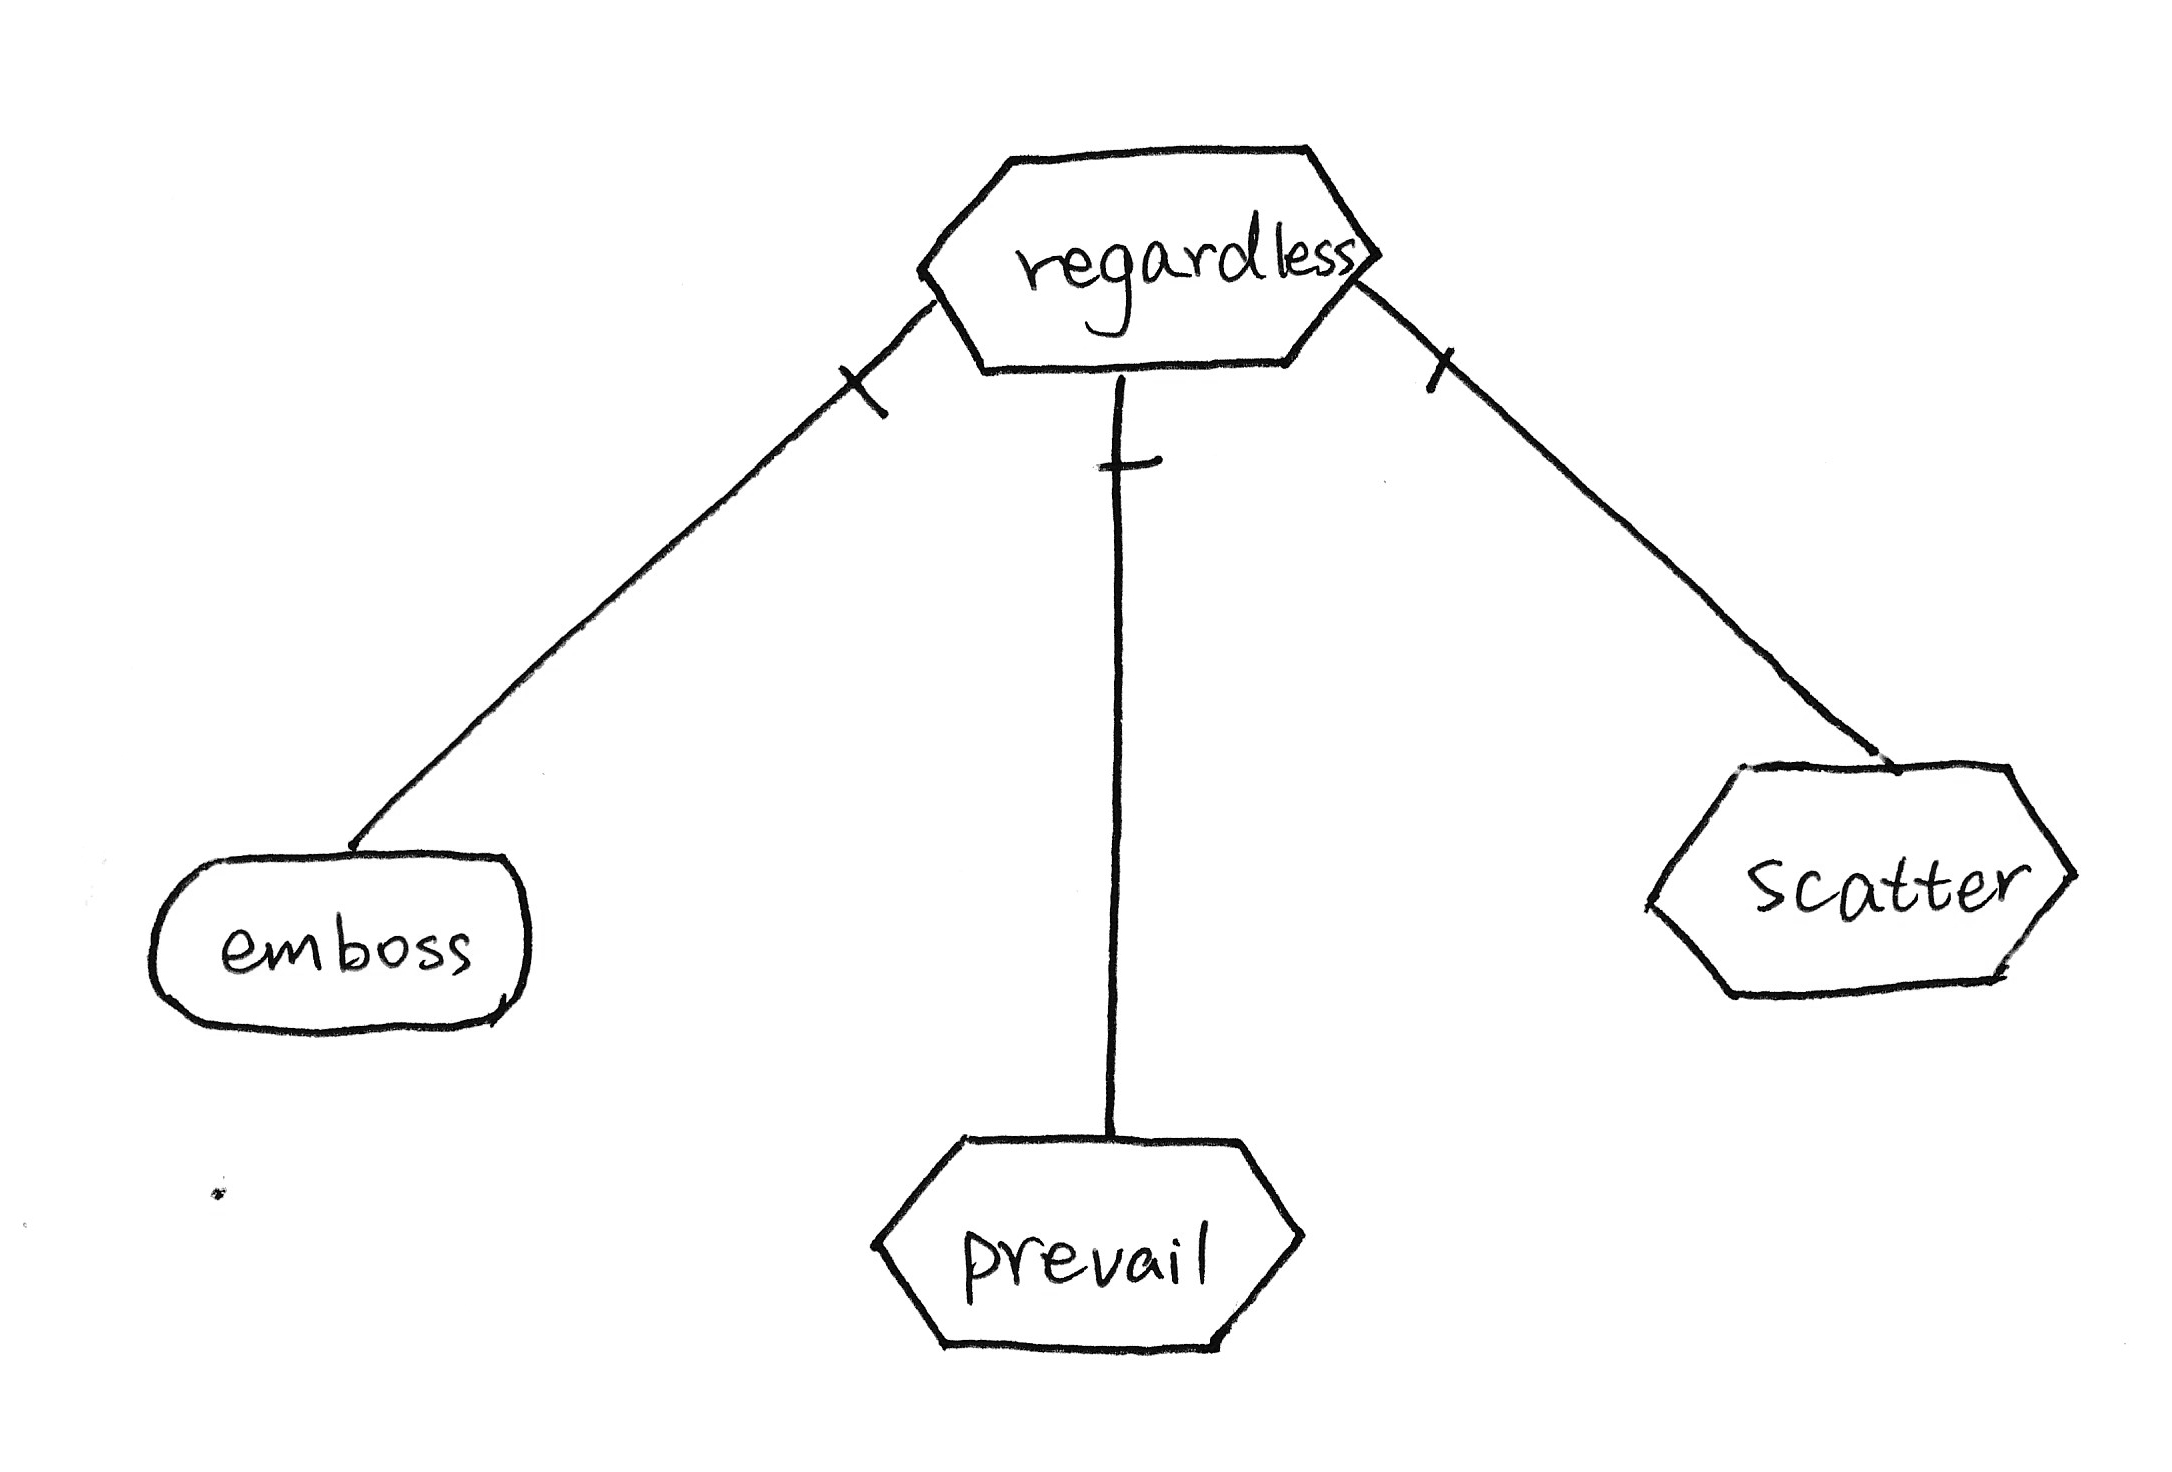and: (1331, 251, 1492, 407), (825, 283, 953, 434), (1081, 353, 1178, 493)
goal: (128, 833, 559, 1060)
task: (902, 117, 1397, 407), (1628, 734, 2095, 1019), (848, 1111, 1329, 1378)
